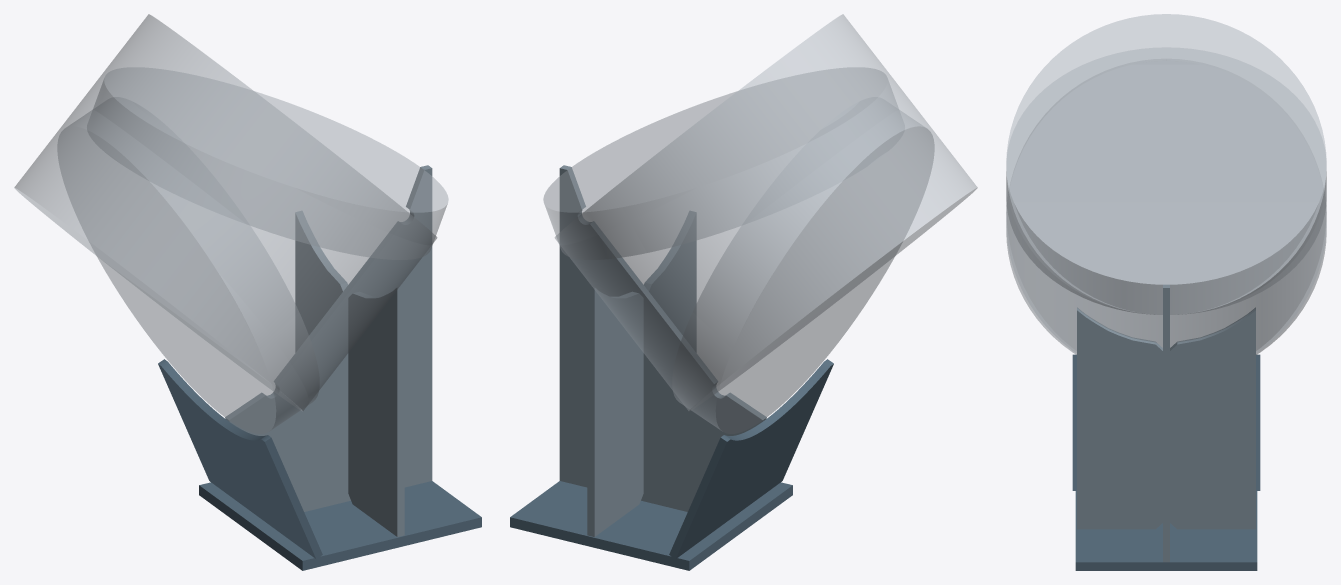
File: TS-631.000-09-opora-dn530-R530.glb
3 views of the same model, side by side, from view 1: azimuth 30°, elevation 25°; view 2: azimuth 150°, elevation 25°; view 3: azimuth 270°, elevation 25° (orthographic). The views are drawn at different scales.
Visible parts, largest first — view 1: truba_1, truba_2, truba_0, kosynka_1, rebro_3, osnovanie_0, sedlo_4, rebro_2; view 2: truba_1, truba_2, truba_0, kosynka_1, rebro_2, osnovanie_0, sedlo_4, rebro_3; view 3: truba_1, truba_0, rebro_2, rebro_3, truba_2, osnovanie_0, kosynka_1, sedlo_4.
Boxes of the visible parts, box(x1,y1,x2,y2) form: truba_1: box(14, 14, 437, 411); truba_2: box(57, 102, 319, 433); truba_0: box(93, 67, 448, 259); kosynka_1: box(225, 165, 432, 511); rebro_3: box(348, 285, 404, 536); osnovanie_0: box(199, 481, 481, 570); sedlo_4: box(158, 359, 322, 559); rebro_2: box(295, 211, 347, 351); truba_1: box(554, 14, 977, 411); truba_2: box(672, 102, 934, 433); truba_0: box(543, 67, 898, 259); kosynka_1: box(559, 165, 766, 511); rebro_2: box(587, 285, 643, 536); osnovanie_0: box(510, 481, 792, 570); sedlo_4: box(669, 359, 833, 559); rebro_3: box(644, 211, 696, 351); truba_1: box(1006, 14, 1326, 354); truba_0: box(1006, 47, 1326, 314); rebro_2: box(1170, 307, 1255, 529); rebro_3: box(1077, 307, 1162, 529); truba_2: box(1006, 60, 1326, 353); osnovanie_0: box(1075, 491, 1257, 570); kosynka_1: box(1163, 284, 1169, 562); sedlo_4: box(1072, 354, 1260, 490).
Size of the model in its own units: 642 by 822 by 530.
